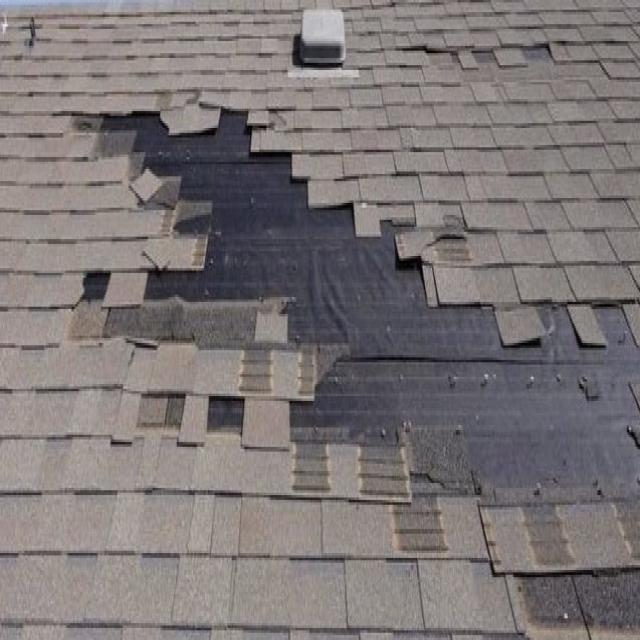damage: (66, 105, 640, 635), (412, 36, 561, 67)
